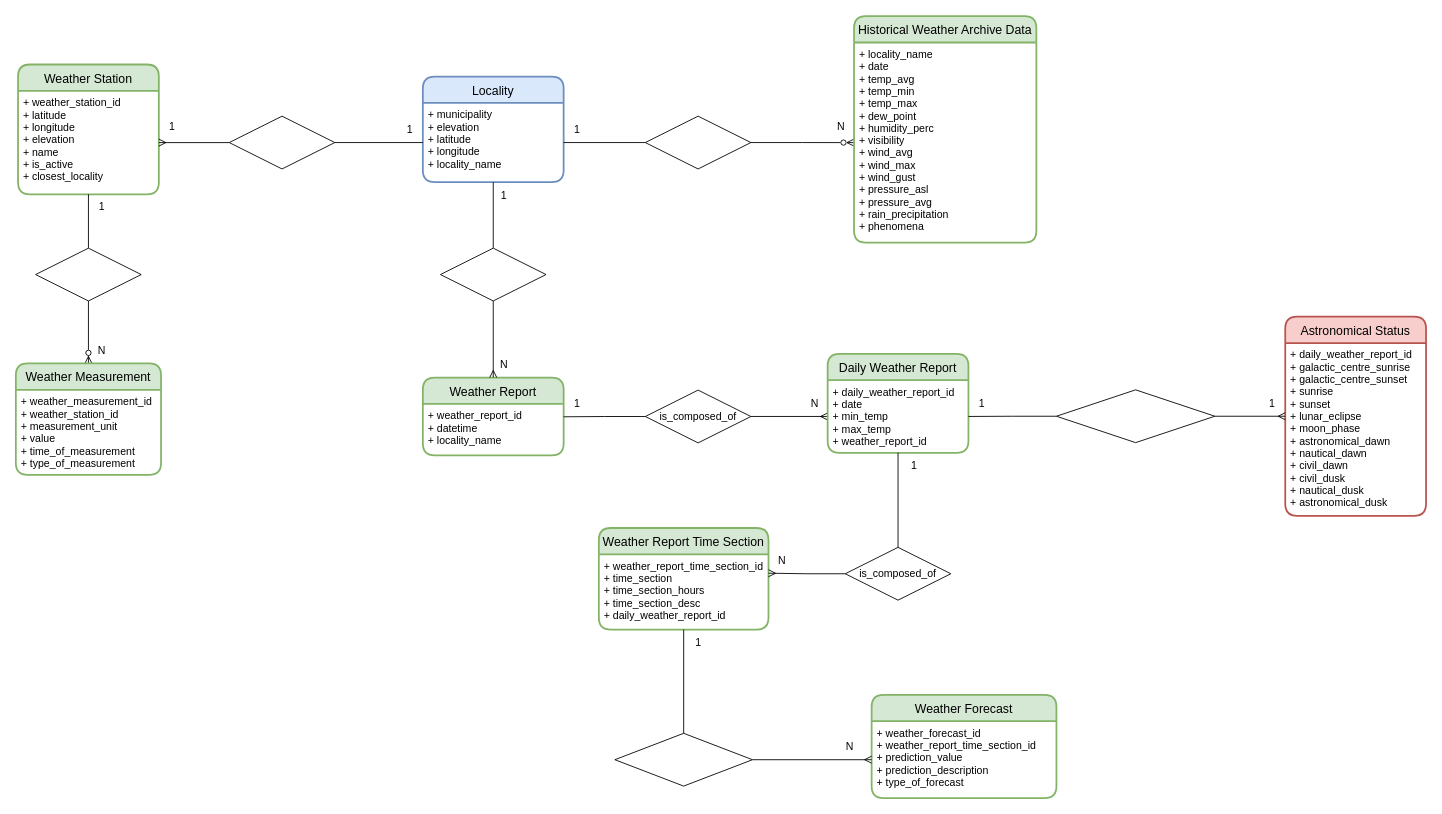
This 1442x814 diagram has some shape labels left out. The shapes that lost their labels are listed below. From the top down, each one's centre as x and y in pixels, then its label:
At [281,142]: "is_closest_to".
At [697,142]: "produced_ for".
At [88,274]: "produce".
At [493,274]: "produced for".
At [1135,416]: "has_astronomical_status".
At [683,759]: "has_weather_forecast".
